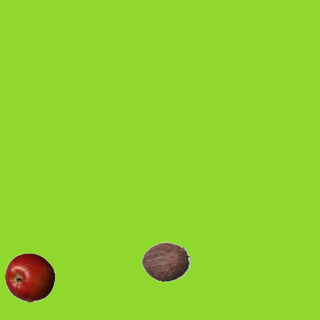Apple Braeburn: (4, 252, 54, 302)
Cocos: (140, 236, 190, 286)
